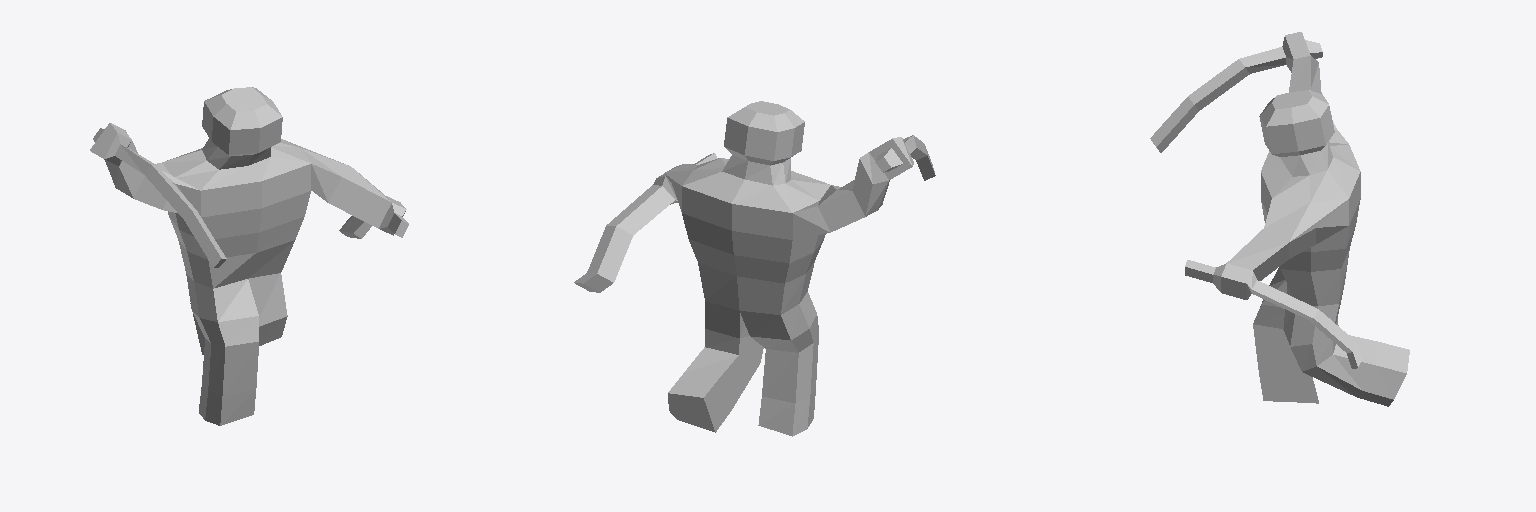
The model's file is HeartBeatMarauderBody.obj.
3 views of the same model, side by side, from view 1: azimuth 30°, elevation 25°; view 2: azimuth 150°, elevation 25°; view 3: azimuth 270°, elevation 25° (orthographic).
Parts seen in each view (by area): view 1: pCube4; view 2: pCube4; view 3: pCube4.
Part boxes in pixels (bbox=[...]): pCube4: bbox=[90, 87, 408, 425]; pCube4: bbox=[574, 101, 935, 436]; pCube4: bbox=[1150, 32, 1409, 406].
Size of the model in its own units: 11.96 by 11.63 by 8.65.